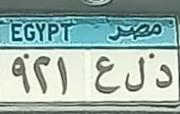1: (57, 54, 70, 95)
2: (33, 54, 51, 96)
9: (9, 56, 31, 93)
د: (151, 59, 174, 94)
ع: (87, 51, 118, 99)
ل: (120, 54, 146, 96)
